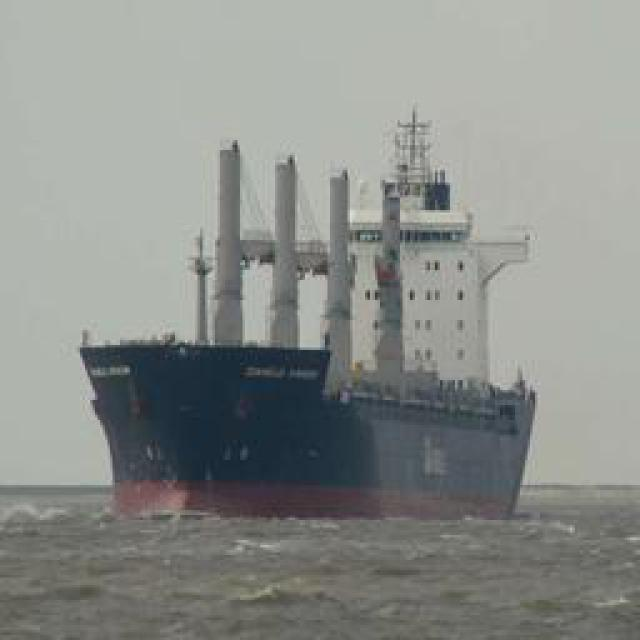Ship: (63, 86, 568, 536)
